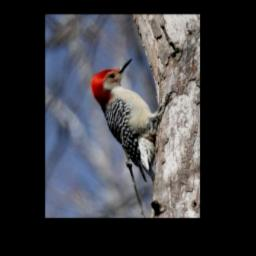Woodpecker: (87, 55, 182, 188)
